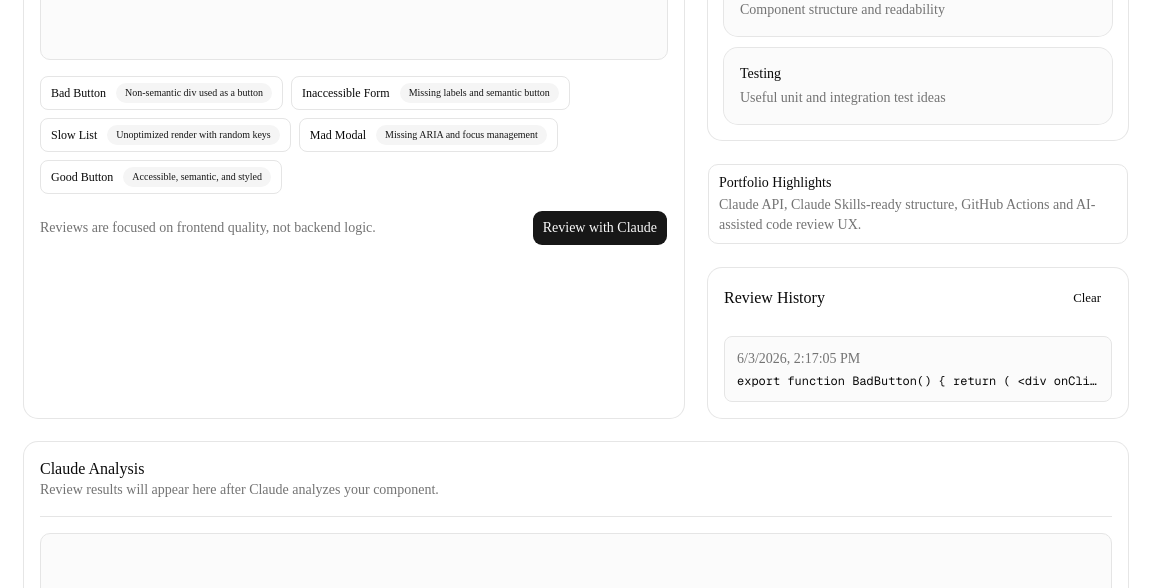
Home page › displays error when API fails
(page scrolled)
Click the button "Review with Claude": (600,228) [532,210,668,246]
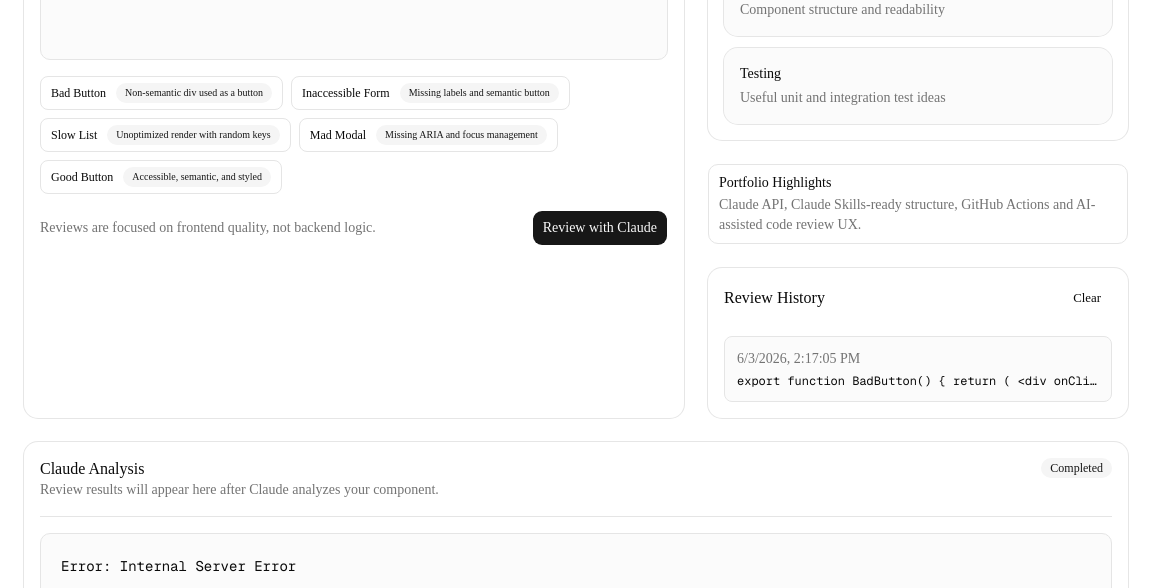
Expected: the text "Error: Internal Server Error" is shown, [61,557,296,575]
